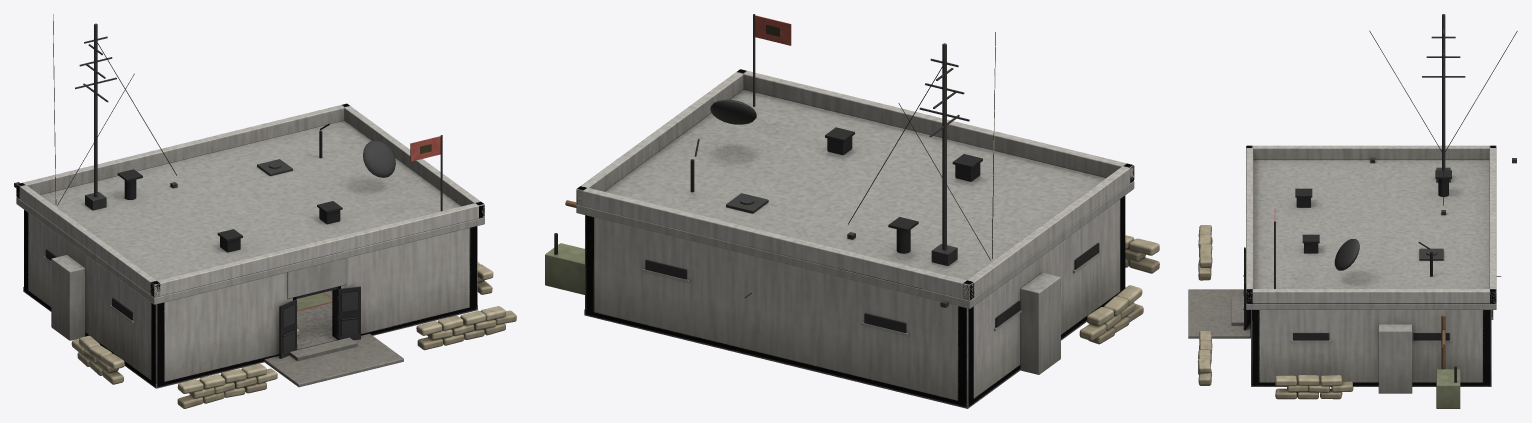
3 views of the same model, side by side, from view 1: azimuth 30°, elevation 25°; view 2: azimuth 150°, elevation 25°; view 3: azimuth 270°, elevation 25° (orthographic). The views are drawn at different scales.
Visible parts, largest first — view 1: HQ_Roof, HQ_Shell; view 2: HQ_Roof, HQ_Shell; view 3: HQ_Roof, HQ_Shell.
Part boxes in pixels (x1,y1,x2,y2): HQ_Roof: (14,14,484,336); HQ_Shell: (23,210,516,408); HQ_Roof: (576,14,1134,308); HQ_Shell: (545,196,1159,408); HQ_Roof: (1246,14,1517,309); HQ_Shell: (1188,225,1493,408).
Size of the model in its own units: 17.52 by 11.47 by 13.68.
6 materials, 3 textured.
